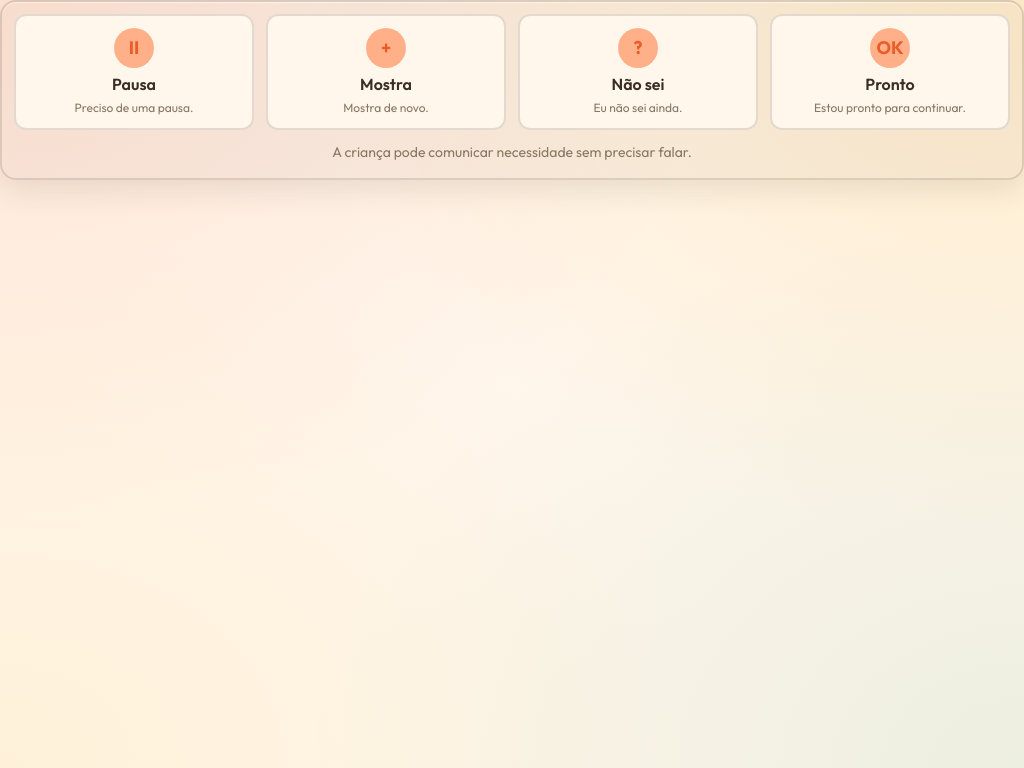
PainelComunicacao › usa cartoes personalizados do perfil
The width and height of the screenshot is (1024, 768).
Step 1. Click the button named "Mostra. Mostra de novo." → (386, 72), box top-left (266, 14), bottom-right (506, 130)
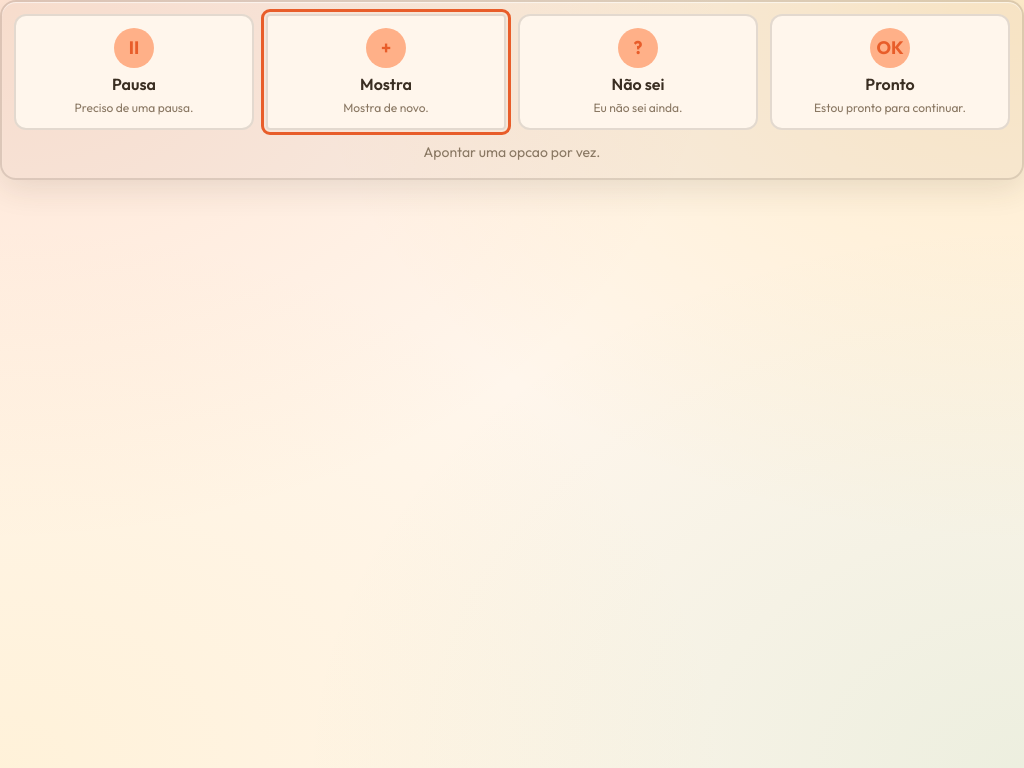
Expected: the text "Apontar uma opcao por vez." is shown, top-left (424, 143), bottom-right (600, 161)
